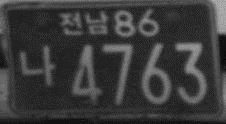3: (174, 41, 208, 105)
4: (69, 43, 103, 106)
6: (140, 41, 172, 106), (138, 6, 159, 37)
7: (102, 41, 134, 107)
8: (113, 8, 136, 38)
나: (19, 43, 56, 87)
전남_O: (57, 9, 110, 36)
